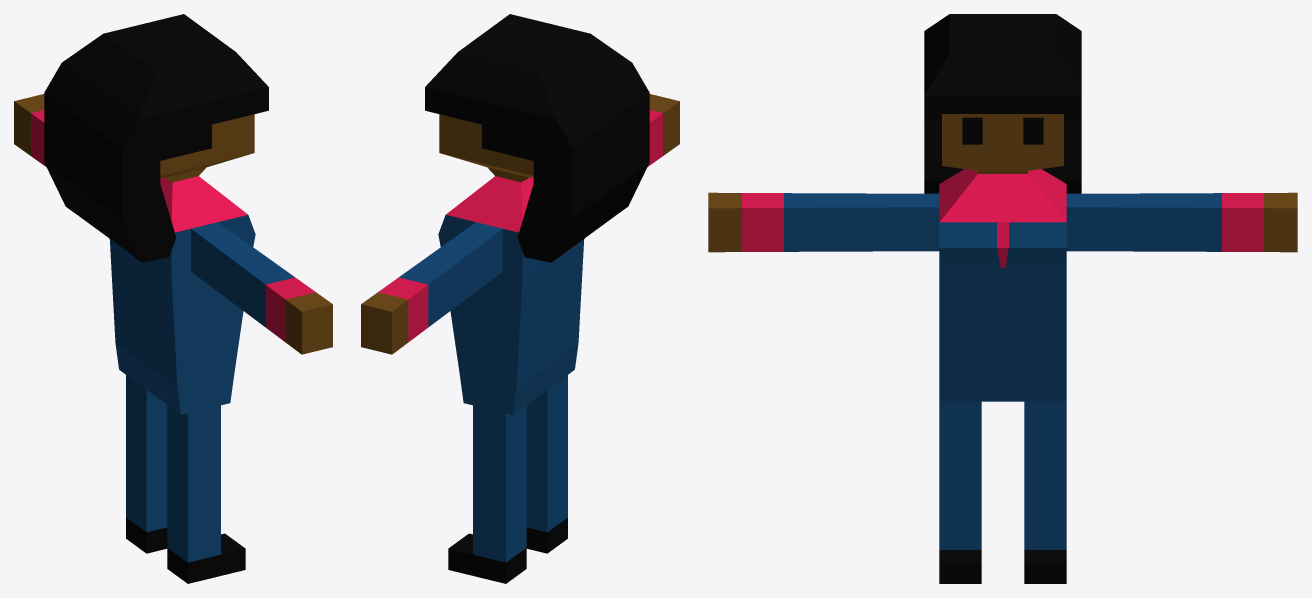
The model's file is Mulher-Azul.fbx.
3 renders of one model, left to right at view 1: azimuth 30°, elevation 25°; view 2: azimuth 150°, elevation 25°; view 3: azimuth 270°, elevation 25°, orthographic. The views are drawn at different scales.
Visible parts, largest first — view 1: Cube; view 2: Cube; view 3: Cube.
Boxes of the visible parts, box(x1,y1,x2,y2) form: Cube: box(14, 14, 332, 583); Cube: box(361, 14, 679, 583); Cube: box(708, 14, 1297, 583).
Size of the model in its own units: 119 by 396 by 401.
